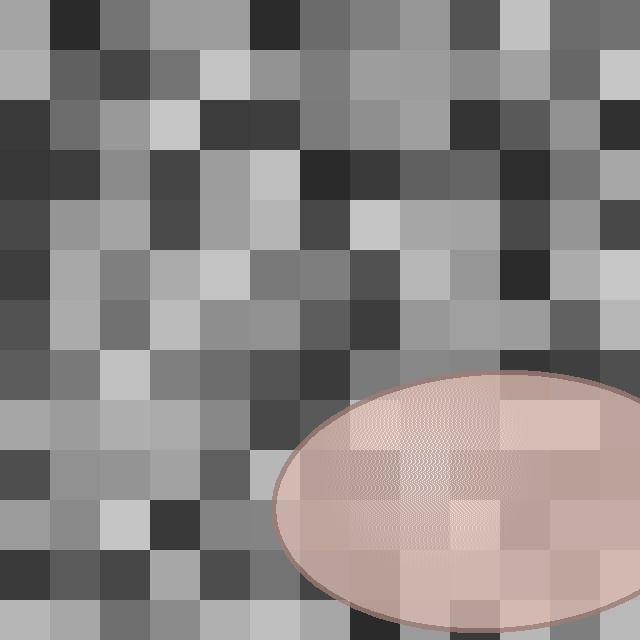lens: (273, 372, 640, 630)
